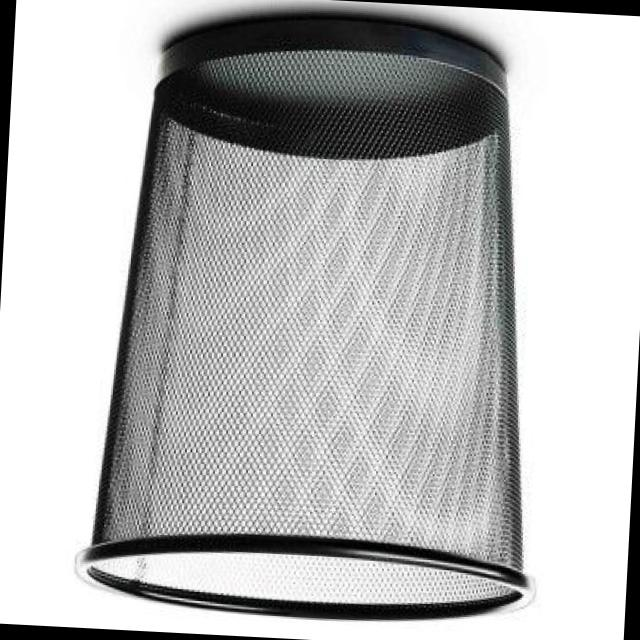dustbin: (73, 0, 571, 639)
